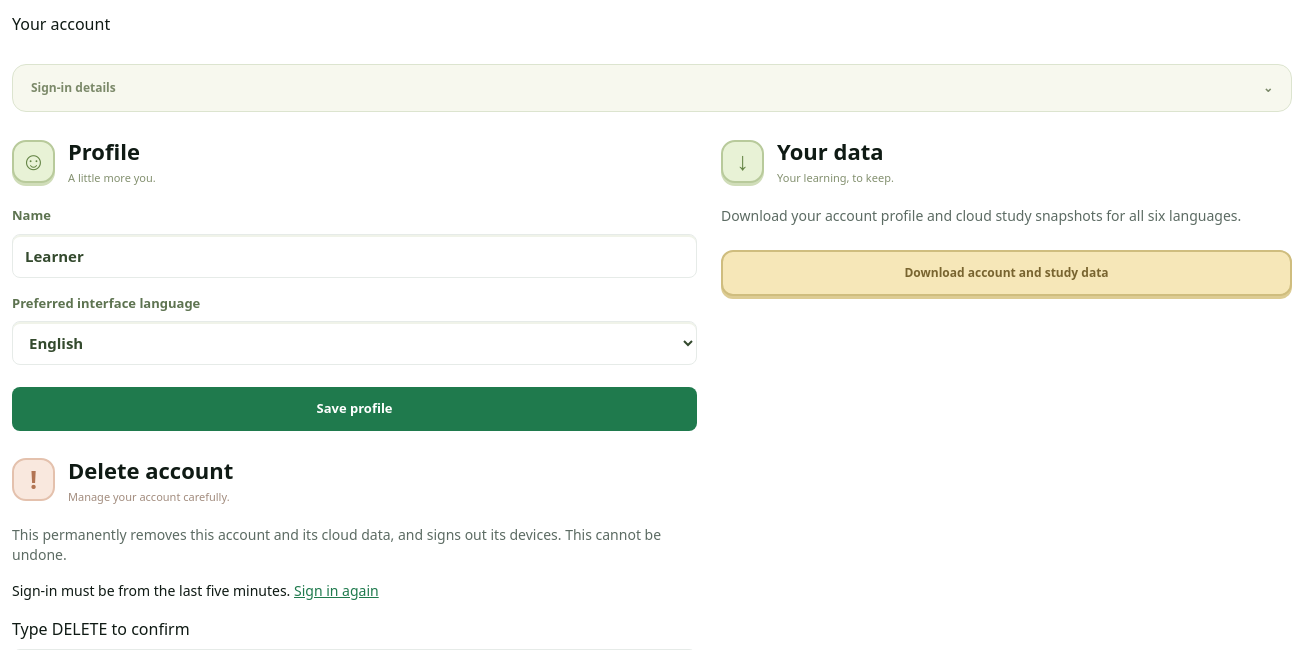
Test case: switches the entire page after a successful profile save and persists a locale cookie
Select "Português" in the dropdown labelled "Preferred interface language" at (355, 343), box [12,321,697,365]
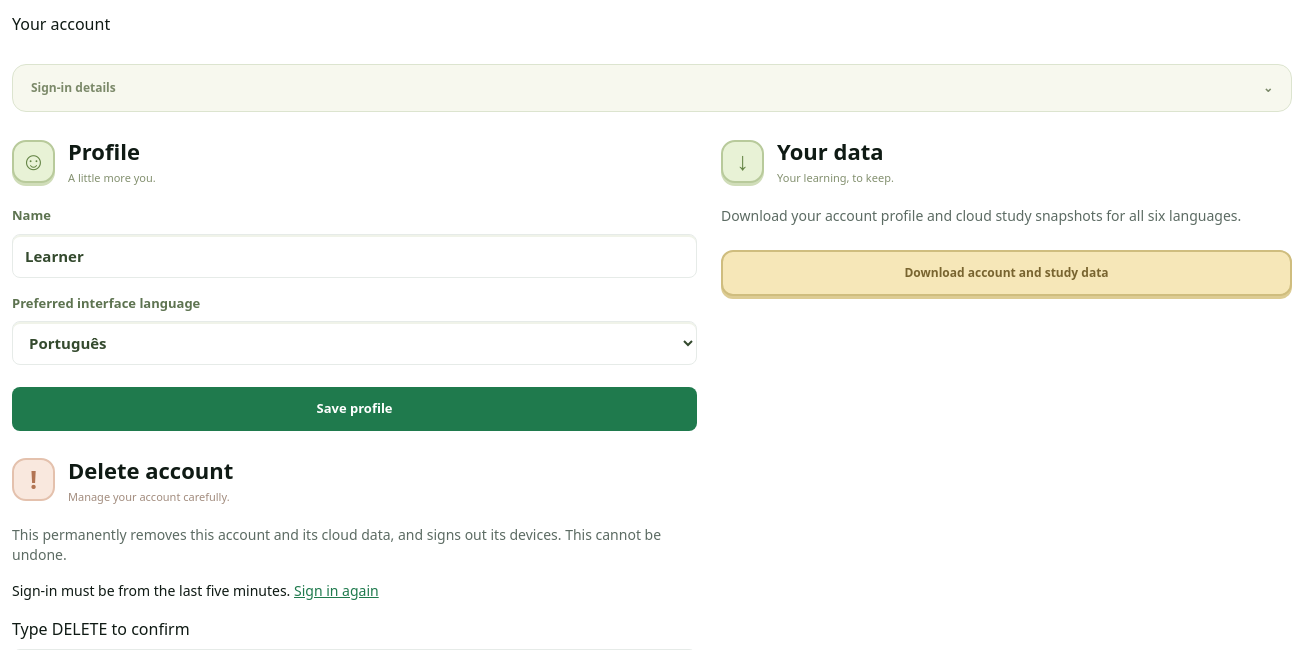
Submit the form that starts with "Profile", box [12,136,697,431]
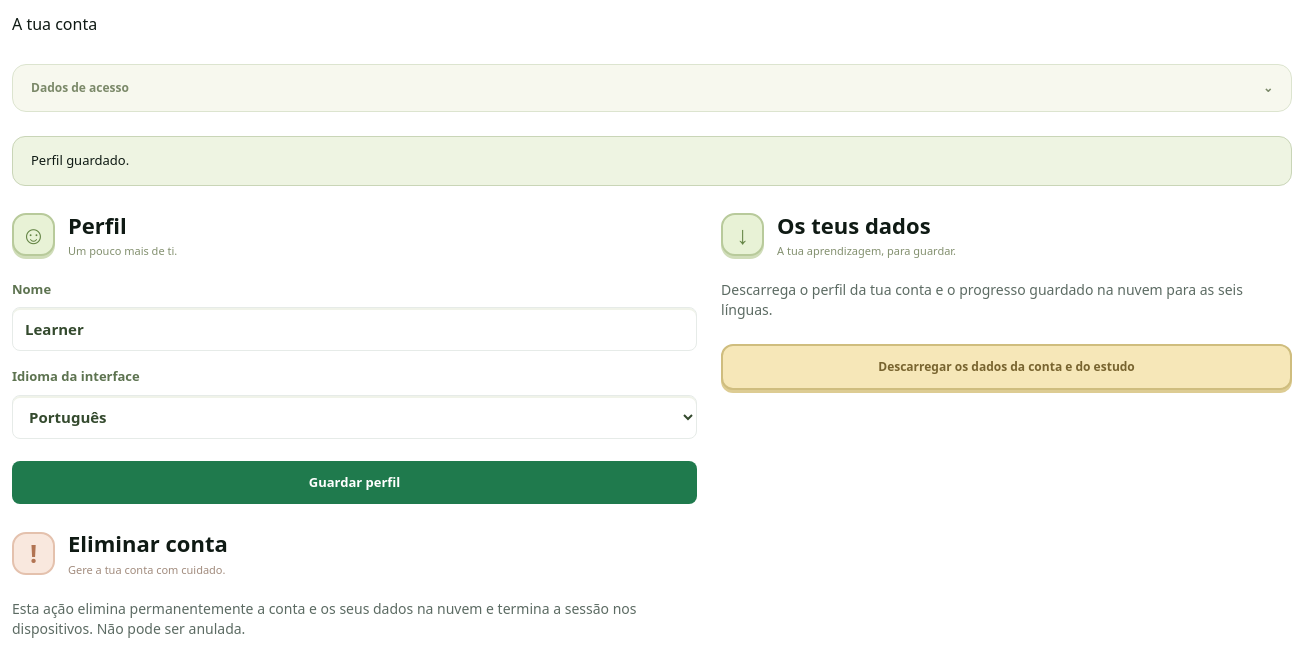
Check: the text "Perfil guardado." is shown, box [12,136,1291,186]
Check: the text "a tua conta" is shown, box [721,280,1243,319]
